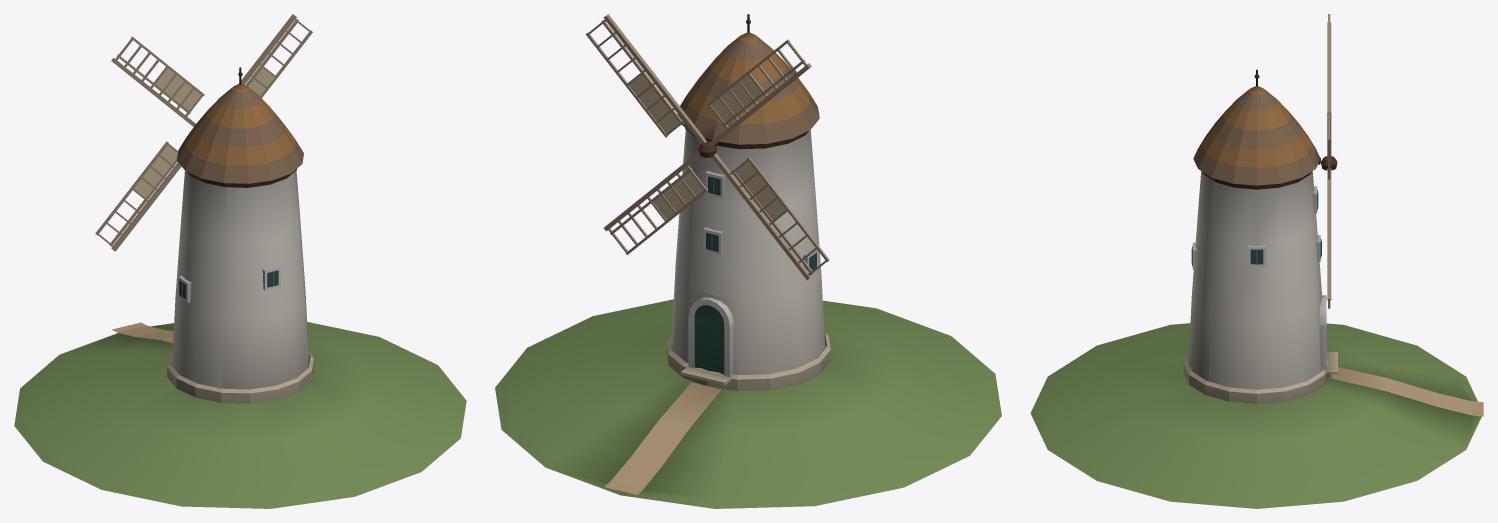
3 renders of one model, left to right at view 1: azimuth 30°, elevation 25°; view 2: azimuth 150°, elevation 25°; view 3: azimuth 270°, elevation 25°, orthographic. The views are drawn at different scales.
Visible parts, largest first — view 1: static_windmill, live_sails; view 2: static_windmill, live_sails; view 3: static_windmill, live_sails.
Boxes of the visible parts, left/top/right/bottom form: static_windmill: left=14, top=67, right=466, bottom=508; live_sails: left=95, top=14, right=312, bottom=251; static_windmill: left=495, top=14, right=1001, bottom=508; live_sails: left=585, top=14, right=829, bottom=280; static_windmill: left=1030, top=69, right=1483, bottom=508; live_sails: left=1321, top=14, right=1337, bottom=308.
Size of the model in its own units: 16 by 14.21 by 16.
